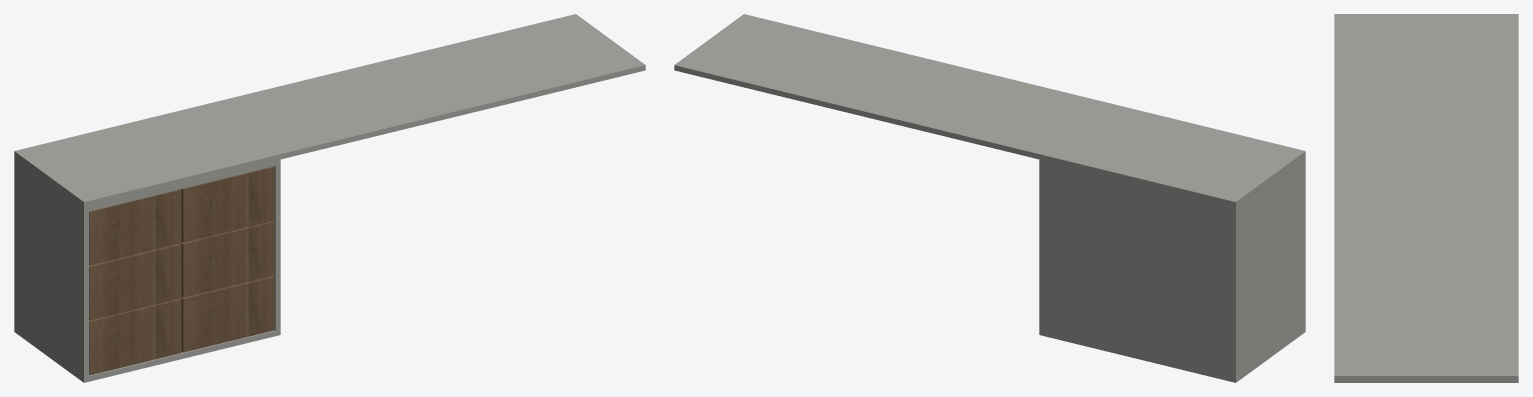
File: meublep.glb
3 views of the same model, side by side, from view 1: azimuth 30°, elevation 25°; view 2: azimuth 150°, elevation 25°; view 3: azimuth 270°, elevation 25° (orthographic). The views are drawn at different scales.
Parts seen in each view (by area): view 1: world; view 2: world; view 3: world.
Boxes of the visible parts, left/top/right/bottom form: world: left=14, top=14, right=645, bottom=382; world: left=674, top=14, right=1305, bottom=382; world: left=1334, top=14, right=1518, bottom=382.
Size of the model in its own units: 2.09 by 0.643 by 0.45.
1 material, 1 textured.
